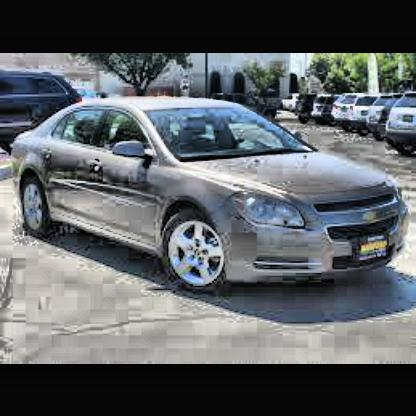Chevrolet Malibu Hybrid Sedan 2010: (10, 91, 408, 301)
